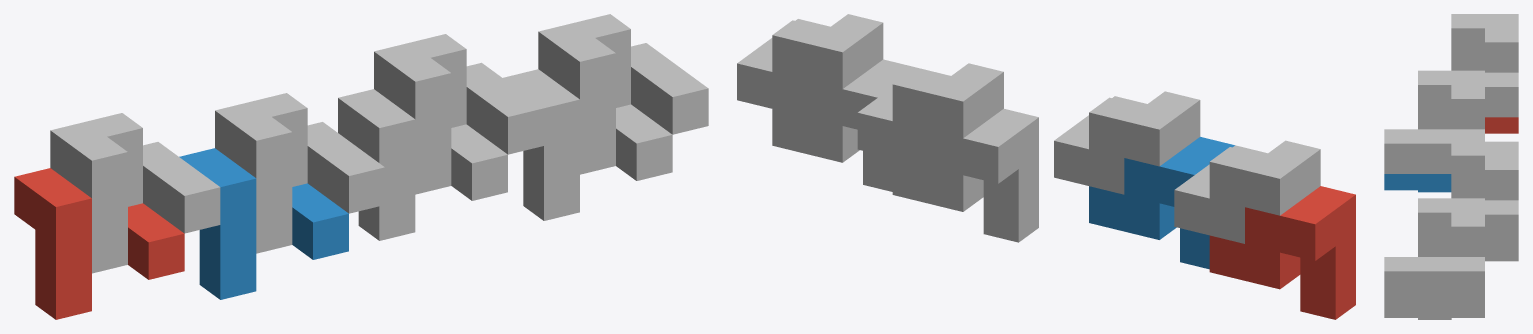
File: tiling.obj
3 renders of one model, left to right at view 1: azimuth 30°, elevation 25°; view 2: azimuth 150°, elevation 25°; view 3: azimuth 270°, elevation 25°, orthographic. The views are drawn at different scales.
Parts seen in each view (by area): view 1: copy_1_domain_7, copy_1_domain_4, copy_1_domain_8, copy_1_domain_3, copy_1_domain_1, copy_1_domain_5, copy_1_domain_2, copy_1_domain_6; view 2: copy_1_domain_1, copy_1_domain_5, copy_1_domain_4, copy_1_domain_8, copy_1_domain_3, copy_1_domain_7, copy_1_domain_6, copy_1_domain_2; view 3: copy_1_domain_8, copy_1_domain_4, copy_1_domain_7, copy_1_domain_3, copy_1_domain_6, copy_1_domain_2, copy_1_domain_1, copy_1_domain_5.
Boxes of the visible parts, <box> form: copy_1_domain_7: <box>374,34,543,194</box>; copy_1_domain_4: <box>215,93,384,253</box>; copy_1_domain_8: <box>538,14,708,174</box>; copy_1_domain_3: <box>50,113,220,273</box>; copy_1_domain_1: <box>14,168,184,319</box>; copy_1_domain_5: <box>338,89,507,240</box>; copy_1_domain_2: <box>179,148,348,299</box>; copy_1_domain_6: <box>503,69,672,220</box>; copy_1_domain_1: <box>1209,186,1355,319</box>; copy_1_domain_5: <box>892,109,1038,242</box>; copy_1_domain_4: <box>1054,91,1200,194</box>; copy_1_domain_8: <box>737,14,883,117</box>; copy_1_domain_3: <box>1174,140,1320,243</box>; copy_1_domain_7: <box>857,63,1003,166</box>; copy_1_domain_6: <box>772,59,917,191</box>; copy_1_domain_2: <box>1089,136,1234,269</box>; copy_1_domain_8: <box>1384,198,1484,301</box>; copy_1_domain_4: <box>1384,70,1484,173</box>; copy_1_domain_7: <box>1451,141,1518,244</box>; copy_1_domain_3: <box>1451,14,1518,117</box>; copy_1_domain_6: <box>1384,301,1484,319</box>; copy_1_domain_2: <box>1384,174,1451,192</box>; copy_1_domain_1: <box>1485,117,1518,133</box>; copy_1_domain_5: <box>1485,245,1518,261</box>.
Bounding box in the file's own units: 17 × 4 × 4.
